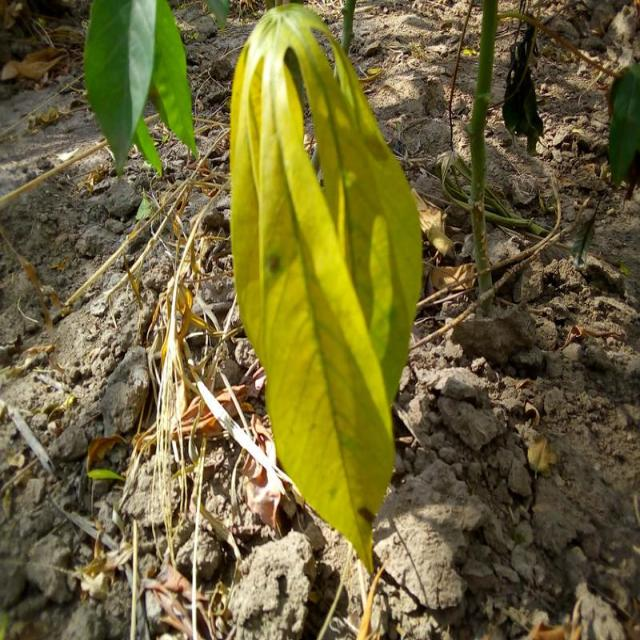cassava leaf: (229, 2, 425, 575)
